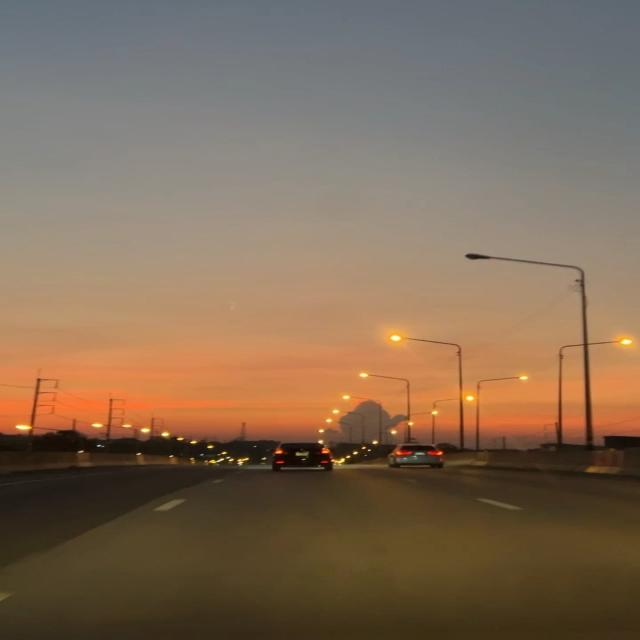Poth-hole: (139, 464, 528, 610)
